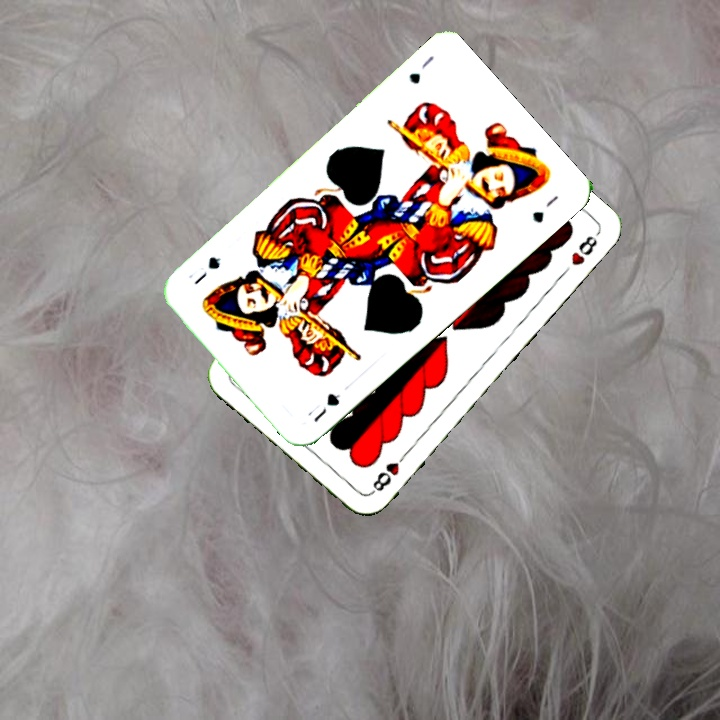GU: (309, 388, 343, 425), (405, 51, 437, 87)
H8: (367, 447, 410, 497)
